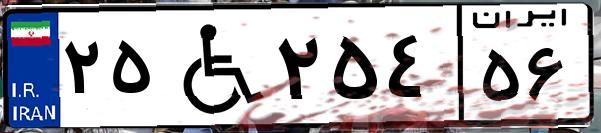2: (270, 28, 330, 110), (57, 26, 110, 100)
4: (385, 28, 445, 110)
5: (330, 28, 385, 110), (475, 38, 525, 113), (110, 28, 158, 98)
6: (525, 38, 570, 115)
ژ (معلولین و جانبازان): (158, 12, 270, 120)
